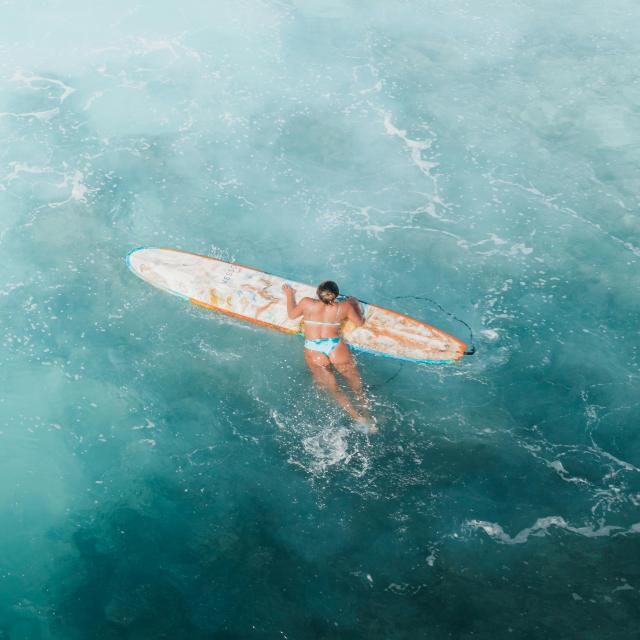lie: (276, 280, 406, 456)
